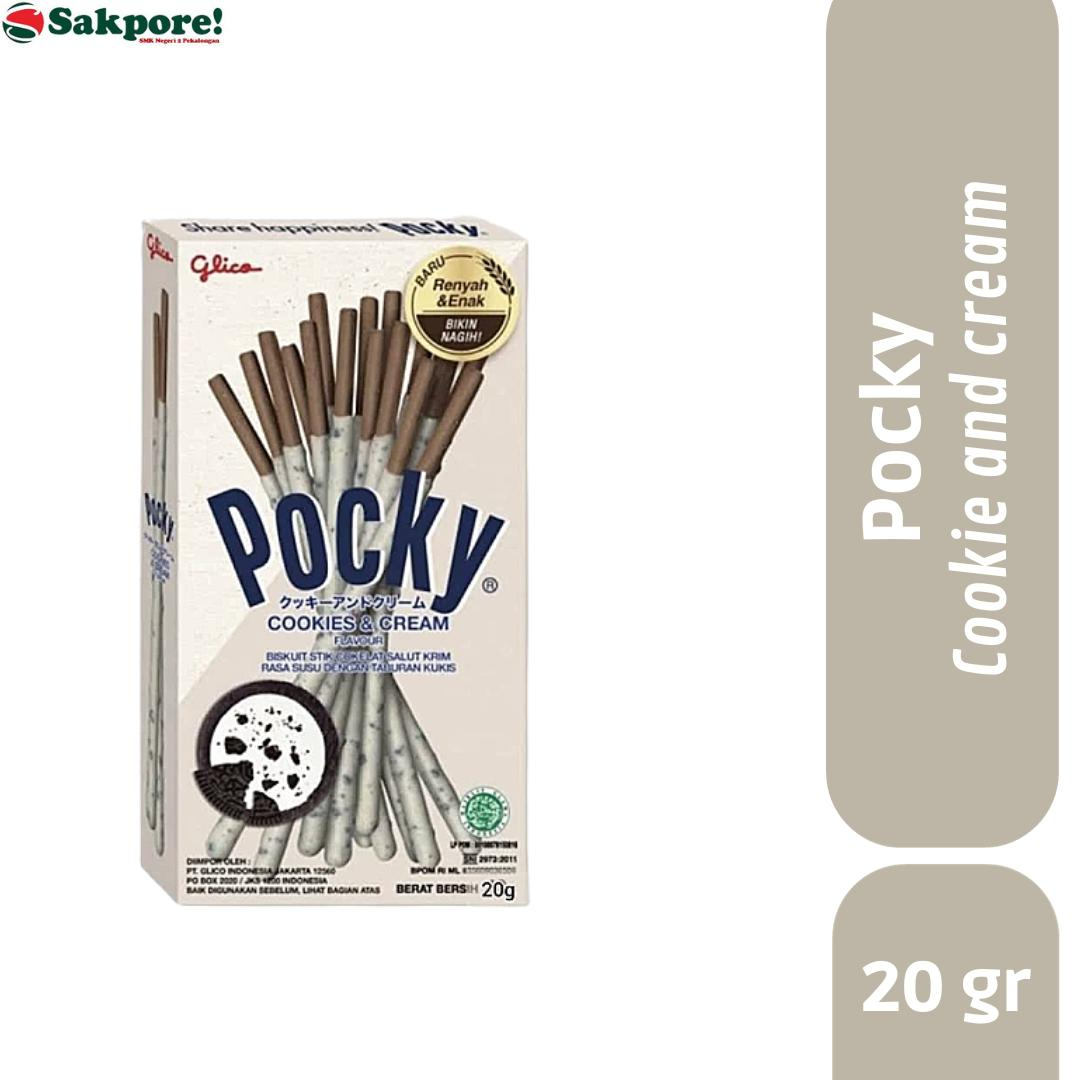Kertas: (145, 228, 525, 898)
